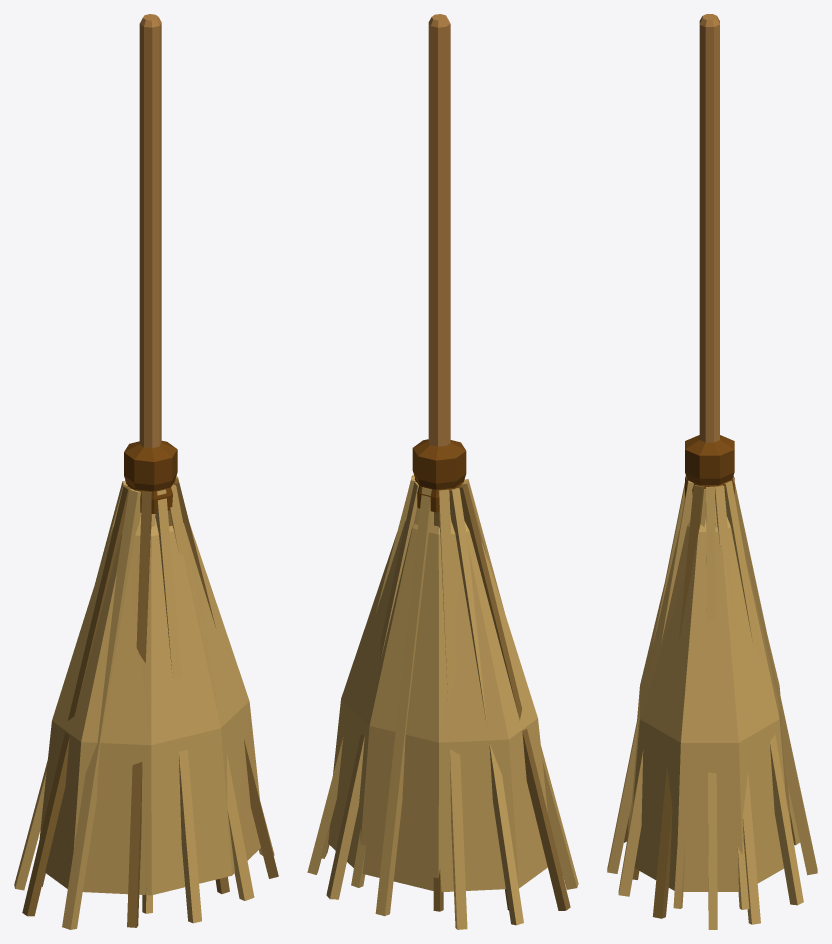
The model's file is SM_Clutter_Broom_01.fbx.
3 renders of one model, left to right at view 1: azimuth 30°, elevation 25°; view 2: azimuth 150°, elevation 25°; view 3: azimuth 270°, elevation 25°, orthographic.
Parts seen in each view (by area): view 1: SM_Clutter_Broom_01; view 2: SM_Clutter_Broom_01; view 3: SM_Clutter_Broom_01.
Part boxes in pixels (left/top/right/bottom): SM_Clutter_Broom_01: left=14, top=14, right=278, bottom=929; SM_Clutter_Broom_01: left=307, top=14, right=578, bottom=929; SM_Clutter_Broom_01: left=607, top=14, right=817, bottom=929.
Bounding box in the file's own units: 0.3601 × 1.2 × 0.2668.
1 material, 1 textured.
